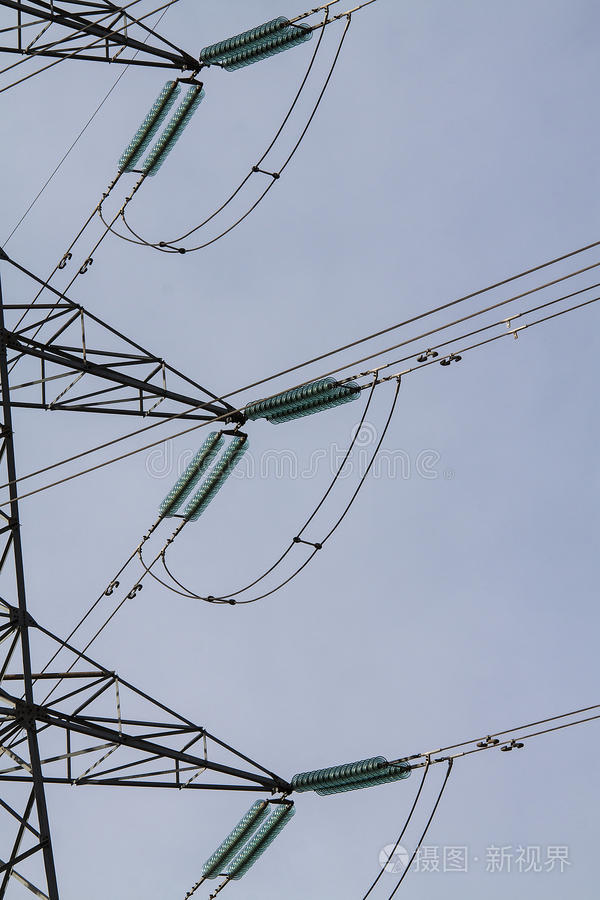insulator: (156, 430, 249, 523), (122, 79, 204, 176), (204, 799, 293, 883), (293, 754, 415, 800), (203, 19, 311, 70), (245, 379, 363, 425)
